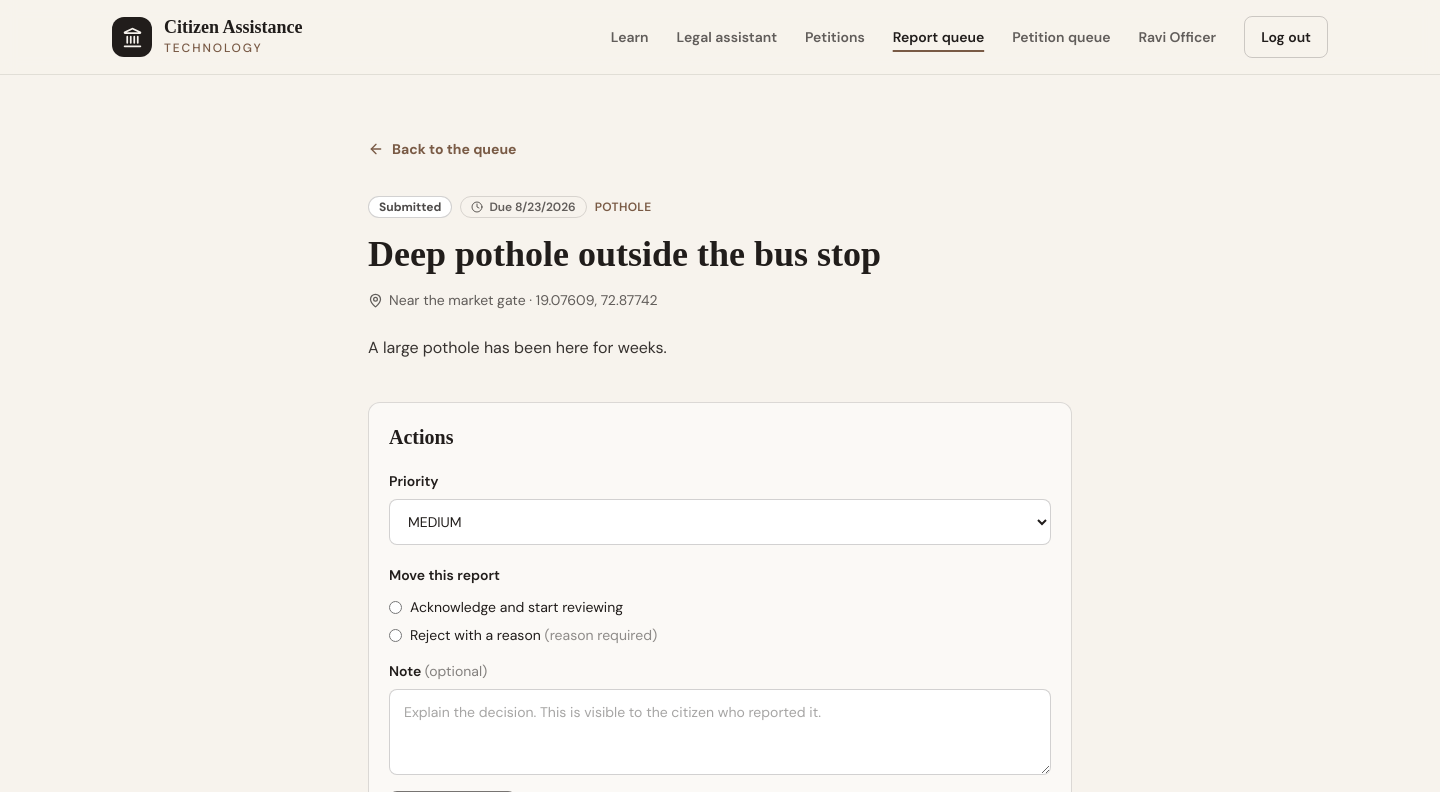
Scenario: AuthorityReportPage › keeps the apply button disabled until a required reason is written
The width and height of the screenshot is (1440, 792).
Check: the heading "Deep pothole outside the bus stop" is shown, box [368,234,881,274]
Click the radio button labelled "Reject with a reason (reason required)" at {"x": 396, "y": 636}, box [389,629,402,642]
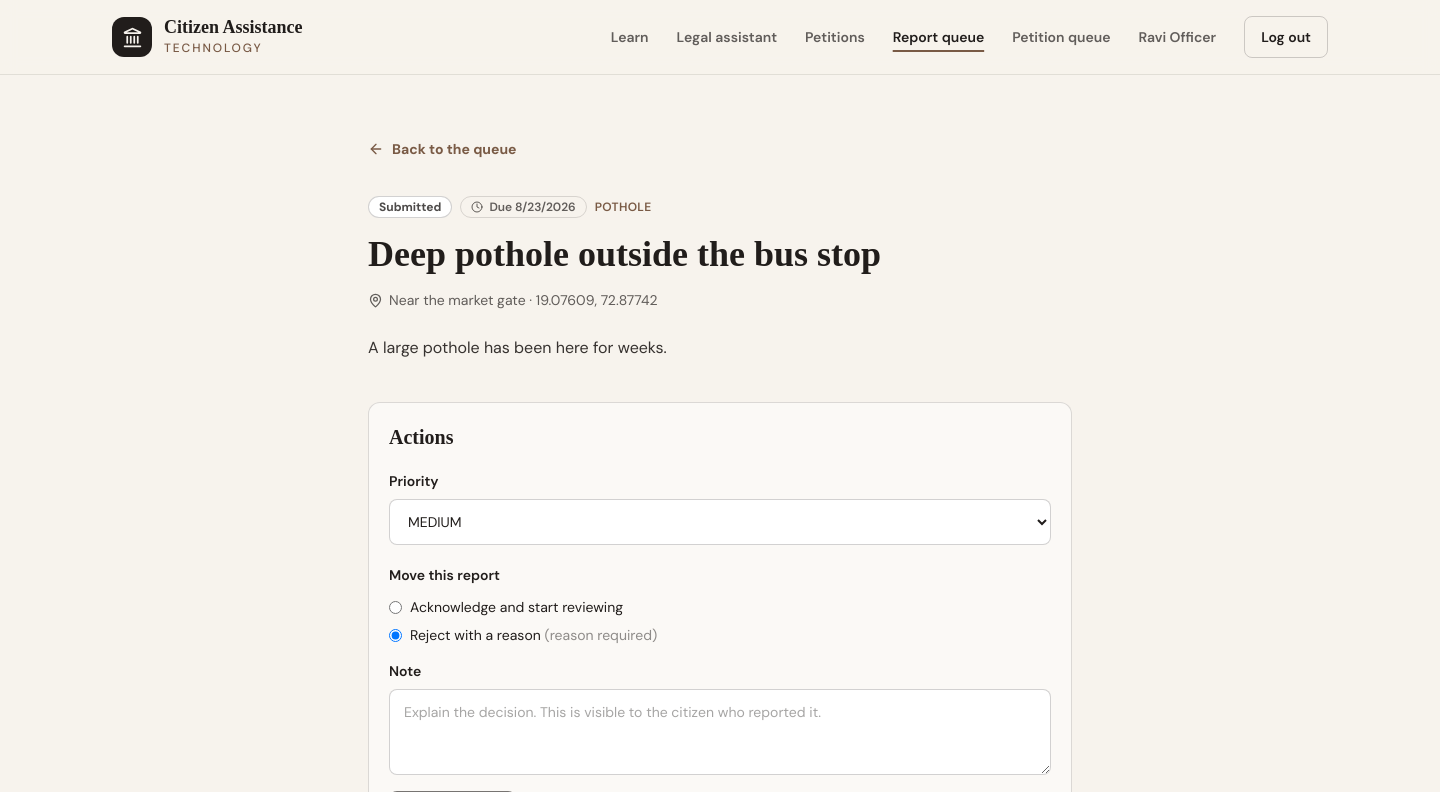
Replace the text in the text box labelled "Note" with "Duplicate of an earlier report." at {"x": 720, "y": 732}, box [389,689,1051,775]
(page scrolled)
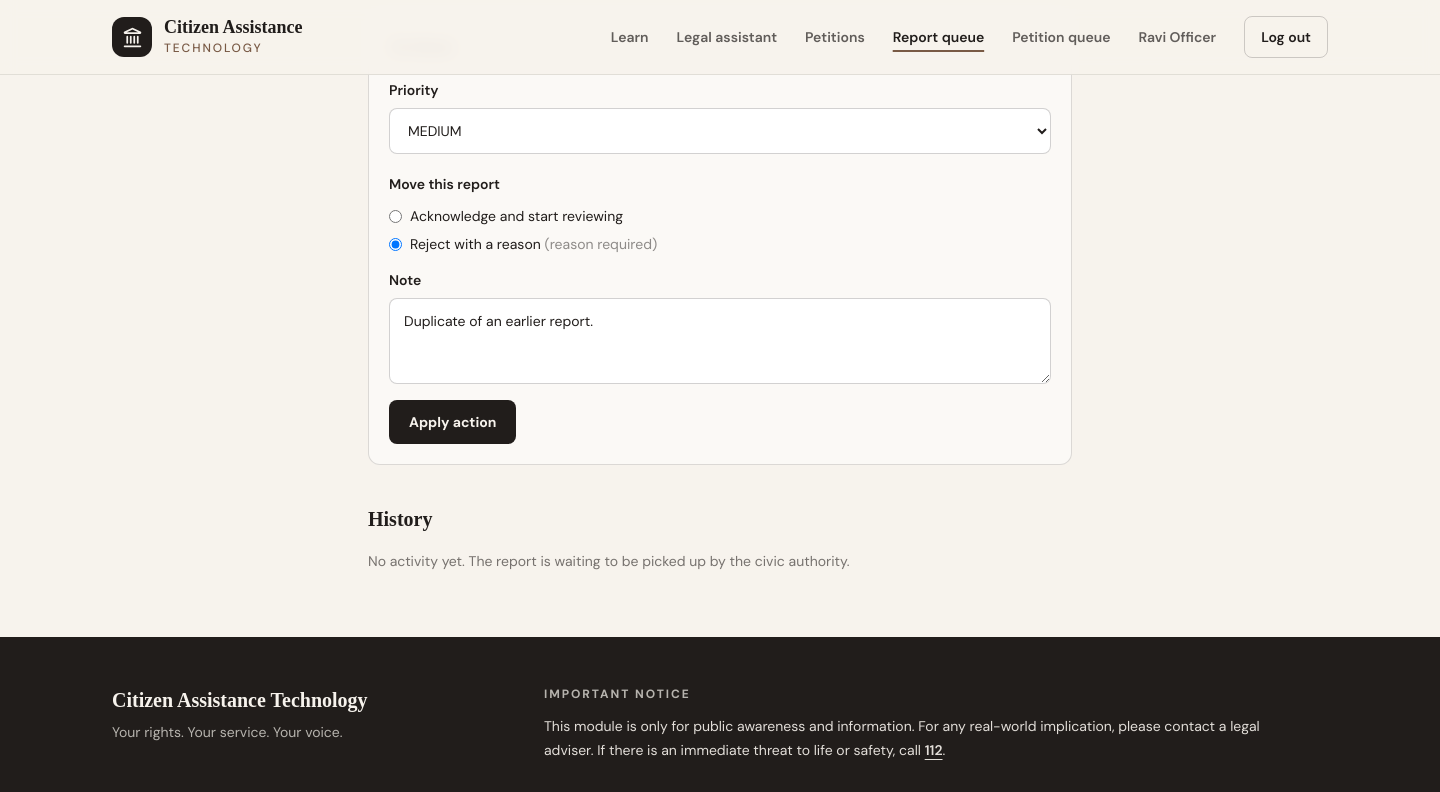
Check: the button "Apply action" is enabled, box [389,400,516,444]
